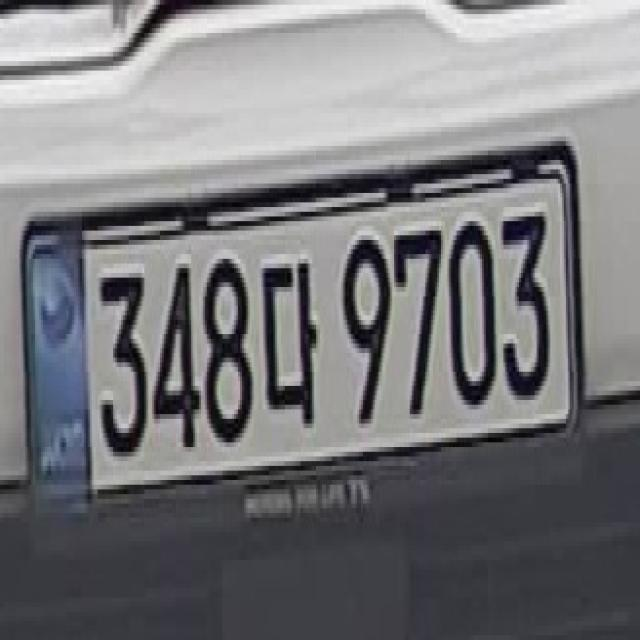plat: (22, 136, 585, 499)
